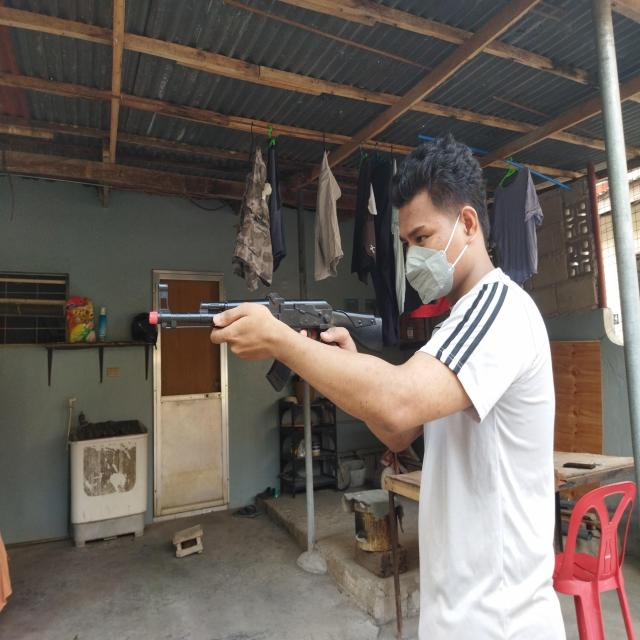rifle: (148, 279, 383, 391)
